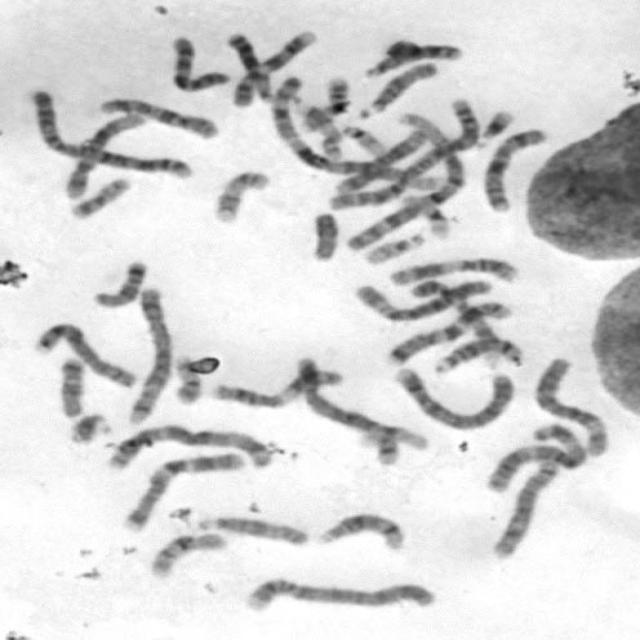A1: (267, 75, 452, 195), (343, 111, 470, 254)
A2: (322, 99, 478, 211), (23, 86, 196, 180)
A3: (102, 422, 273, 472), (479, 419, 587, 493)
B4: (387, 362, 515, 430), (237, 574, 444, 613)
B5: (288, 353, 401, 470), (121, 284, 174, 426)
C10: (94, 94, 222, 141), (164, 33, 231, 93)
C11: (206, 365, 344, 410), (382, 254, 521, 286)
C12: (328, 126, 430, 200), (62, 113, 148, 190)
C6: (529, 353, 610, 458), (349, 274, 492, 323)
C7: (116, 450, 247, 532), (381, 296, 514, 366)
C8: (29, 319, 140, 390), (486, 454, 560, 560)
C9: (407, 278, 507, 371), (228, 27, 320, 108)
D13: (226, 30, 280, 105), (363, 42, 463, 78)
D14: (313, 510, 407, 552), (428, 334, 524, 374)
D15: (352, 59, 439, 120), (196, 513, 310, 547)
E16: (148, 531, 231, 582), (298, 76, 351, 134)
E17: (208, 168, 271, 225), (296, 102, 343, 161)
E18: (89, 257, 148, 309), (53, 354, 88, 419)
F19: (401, 192, 453, 241), (356, 424, 431, 453)
F20: (64, 173, 133, 220), (170, 353, 204, 405)
G21: (471, 106, 517, 148), (67, 410, 112, 444)
G22: (360, 230, 426, 266), (338, 122, 387, 156)
X: (476, 125, 550, 213)
Y: (306, 209, 340, 262)
